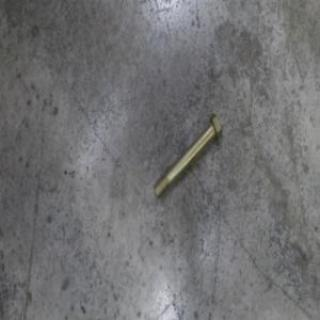Bolttrack_idkeyframe: (152, 110, 222, 200)
